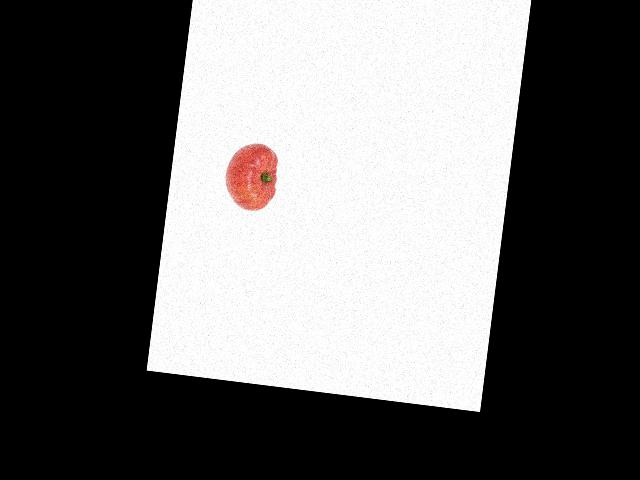tomato: (222, 140, 279, 213)
